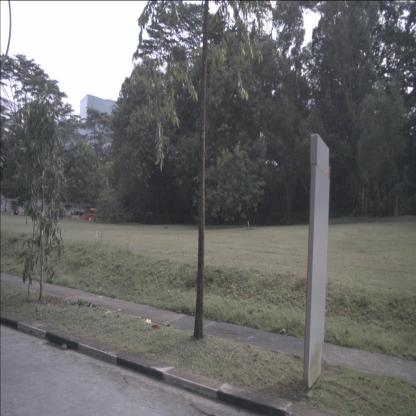vehicle-car: (72, 210, 86, 221)
